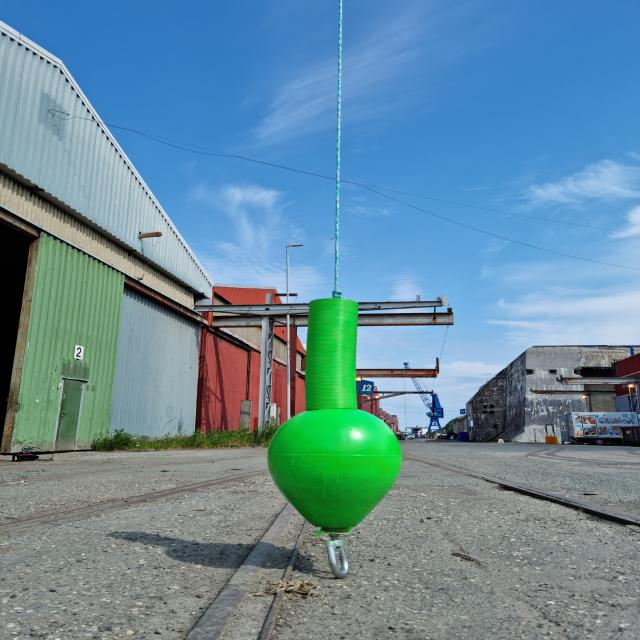green: (268, 299, 402, 535)
